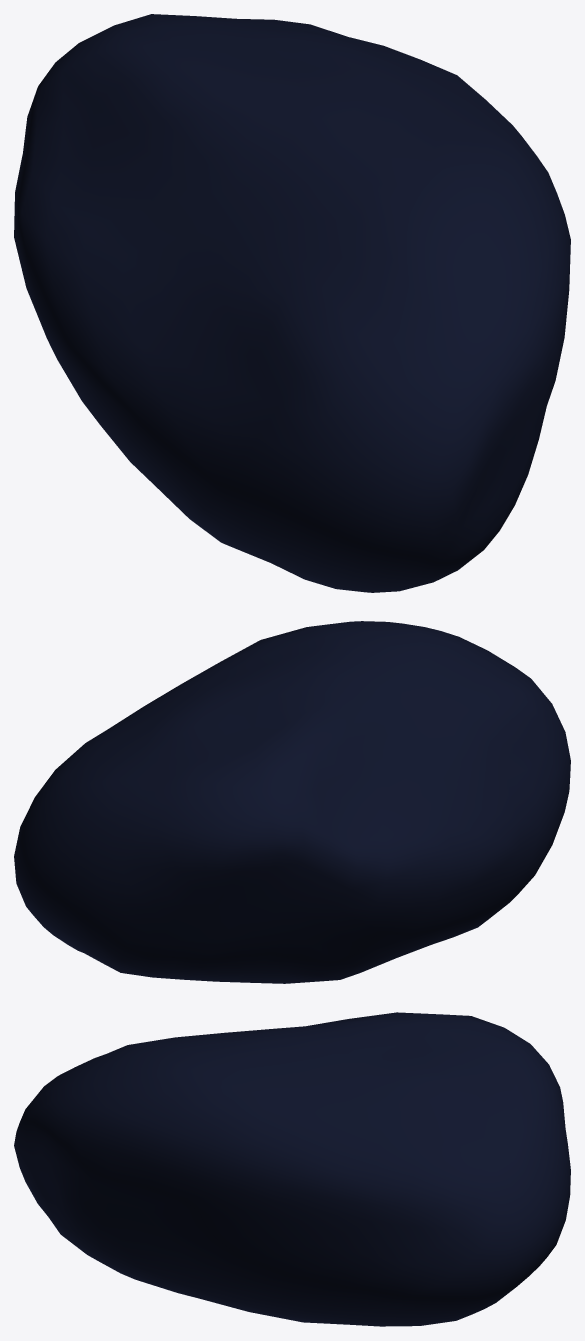
Rendered from Rock.007.fbx.
3 views of the same model, one above another, from view 1: azimuth 30°, elevation 25°; view 2: azimuth 150°, elevation 25°; view 3: azimuth 270°, elevation 25° (orthographic). The views are drawn at different scales.
Parts seen in each view (by area): view 1: Rock.006; view 2: Rock.006; view 3: Rock.006.
Boxes of the visible parts, x1,y1,x2,y2 form: Rock.006: [14, 14, 570, 592]; Rock.006: [14, 621, 570, 983]; Rock.006: [14, 1012, 570, 1326].
Bounding box in the file's own units: 259 × 185 × 371.
